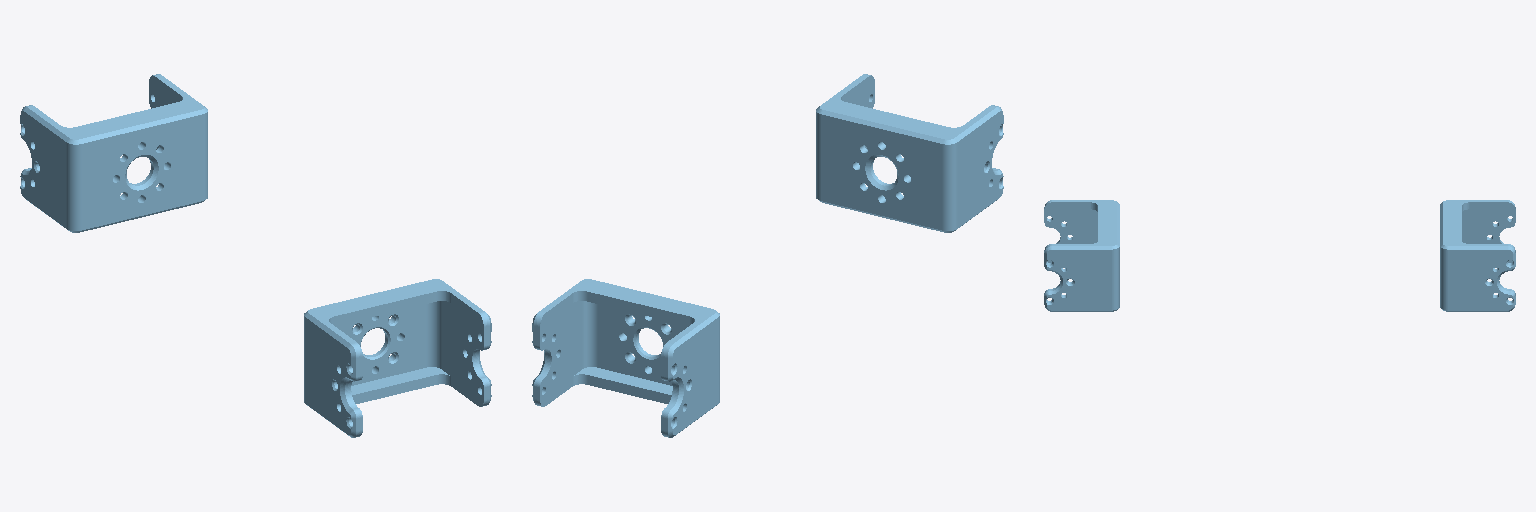
robot.urdf — toddlerbot_arms:
<?xml version="1.0" ?><robot name="toddlerbot_arms">  
  <link name="torso">    
    <visual>      
      <origin xyz="0 0 0" rpy="0 -0 0"/>      
      <geometry>        
        <mesh filename="package:///meshes/torso_visual.stl"/>        
      </geometry>      
      <material name="torso_material">        
        <color rgba="0.57966228766239313863 0.74125456887618423885 0.86359135833205546984 1.0"/>        
      </material>      
    </visual>    
    <collision>      
      <origin xyz="0 0 0" rpy="0 -0 0"/>      
      <geometry>        
        <mesh filename="package:///meshes/torso_collision.stl"/>        
      </geometry>      
    </collision>    
    <inertial>      
      <origin xyz="-0.0083672516032259197649 0.0028606309772025665522 0.072227274344631706149" rpy="0 0 0"/>      
      <mass value="0.66652685450988358173"/>      
      <inertia ixx="0.0019434685147573988774" ixy="-3.0196901537300142372e-05" ixz="-4.8453284405565889142e-05" iyy="0.0015666474025509457071" iyz="3.8807867182524935609e-05" izz="0.0013960060525913834881"/>      
    </inertial>    
  </link>  

  <link name="left_arm_hand">    
    <visual>      
      <origin xyz="0 0 0" rpy="0 -0 0"/>      
      <geometry>        
        <mesh filename="package:///meshes/left_arm_hand_visual.stl"/>        
      </geometry>      
      <material name="left_arm_hand_material">        
        <color rgba="0.61568627450980395466 0.81176470588235294379 0.92941176470588227065 1.0"/>        
      </material>      
    </visual>    
    <collision>      
      <origin xyz="0 0 0" rpy="0 -0 0"/>      
      <geometry>        
        <mesh filename="package:///meshes/left_arm_hand_collision.stl"/>        
      </geometry>      
    </collision>    
    <inertial>      
      <origin xyz="5.8254248488936148346e-11 -5.1264642561120755677e-05 0.0082440788127094866838" rpy="0 0 0"/>      
      <mass value="0.0085999999999999948014"/>      
      <inertia ixx="1.2272887040545789755e-06" ixy="-2.1429944218861188293e-14" ixz="-8.5847198874678704984e-15" iyy="2.9107306060364611617e-06" iyz="7.4623841398182935117e-09" izz="3.0803135950773483457e-06"/>      
    </inertial>    
  </link>  

  <joint name="left_sho_pitch" type="revolute">    
    <origin xyz="-0.0030000000000002949654 0.062000000000001082023 0.10423651076281742478" rpy="-1.5707963267949081043 -4.0958527081001641839e-14 3.5234047634505718213e-14"/>    
    <parent link="torso"/>    
    <child link="left_arm_hand"/>    
    <axis xyz="0 0 1"/>    
    <limit effort="1" velocity="20" lower="-3.141592653589793116" upper="1.570796326794896558"/>    
    <joint_properties friction="0.0"/>    
  </joint>  

  <link name="right_arm_hand">    
    <visual>      
      <origin xyz="0 0 0" rpy="0 -0 0"/>      
      <geometry>        
        <mesh filename="package:///meshes/right_arm_hand_visual.stl"/>        
      </geometry>      
      <material name="right_arm_hand_material">        
        <color rgba="0.61568627450980395466 0.81176470588235294379 0.92941176470588227065 1.0"/>        
      </material>      
    </visual>    
    <collision>      
      <origin xyz="0 0 0" rpy="0 -0 0"/>      
      <geometry>        
        <mesh filename="package:///meshes/right_arm_hand_collision.stl"/>        
      </geometry>      
    </collision>    
    <inertial>      
      <origin xyz="5.8254248488936148346e-11 -5.1264642561120755677e-05 0.0082440788127094866838" rpy="0 0 0"/>      
      <mass value="0.0085999999999999948014"/>      
      <inertia ixx="1.2272887040545789755e-06" ixy="-2.1429944218861188293e-14" ixz="-8.5847198874678704984e-15" iyy="2.9107306060364611617e-06" iyz="7.4623841398182935117e-09" izz="3.0803135950773483457e-06"/>      
    </inertial>    
  </link>  

  <joint name="right_sho_pitch" type="revolute">    
    <origin xyz="-0.0029999999999986998872 -0.06200000000000097794 0.10423651076281731376" rpy="-1.5707963267948885644 3.4812325502379109658e-14 -3.1415926535897562566"/>    
    <parent link="torso"/>    
    <child link="right_arm_hand"/>    
    <axis xyz="0 0 1"/>    
    <limit effort="1" velocity="20" lower="-1.570796326794896558" upper="3.141592653589793116"/>    
    <joint_properties friction="0.0"/>    
  </joint>  


</robot>

--- Facts derived from the render (not from the file) ---
Views: 3 orthographic renders of the robot side by side, from view 1: azimuth 30°, elevation 25°; view 2: azimuth 150°, elevation 25°; view 3: azimuth 270°, elevation 25°.
Robot: toddlerbot_arms — 3 links, 2 joints (2 revolute); root link torso; default pose: all joints at 0.
Visible links, largest first — view 1: left_arm_hand, right_arm_hand; view 2: right_arm_hand, left_arm_hand; view 3: left_arm_hand, right_arm_hand.
Boxes of the visible links, <box> form: left_arm_hand: <box>20,74,207,232</box>; right_arm_hand: <box>304,279,491,437</box>; right_arm_hand: <box>816,74,1003,232</box>; left_arm_hand: <box>532,279,719,437</box>; left_arm_hand: <box>1440,200,1515,311</box>; right_arm_hand: <box>1044,200,1119,311</box>.
Bounding box of the posed robot: 0.044 × 0.182 × 0.028 m (x, y, z).
Meshes: 3 distinct files referenced, 2 mesh visuals loaded (2 binary STL); not drawn: 1 (reference not matched to a file when rendering).
